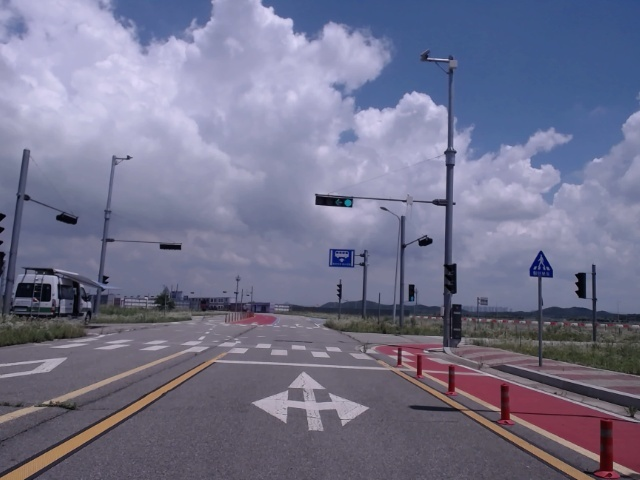all_green_4: (314, 195, 353, 206)
